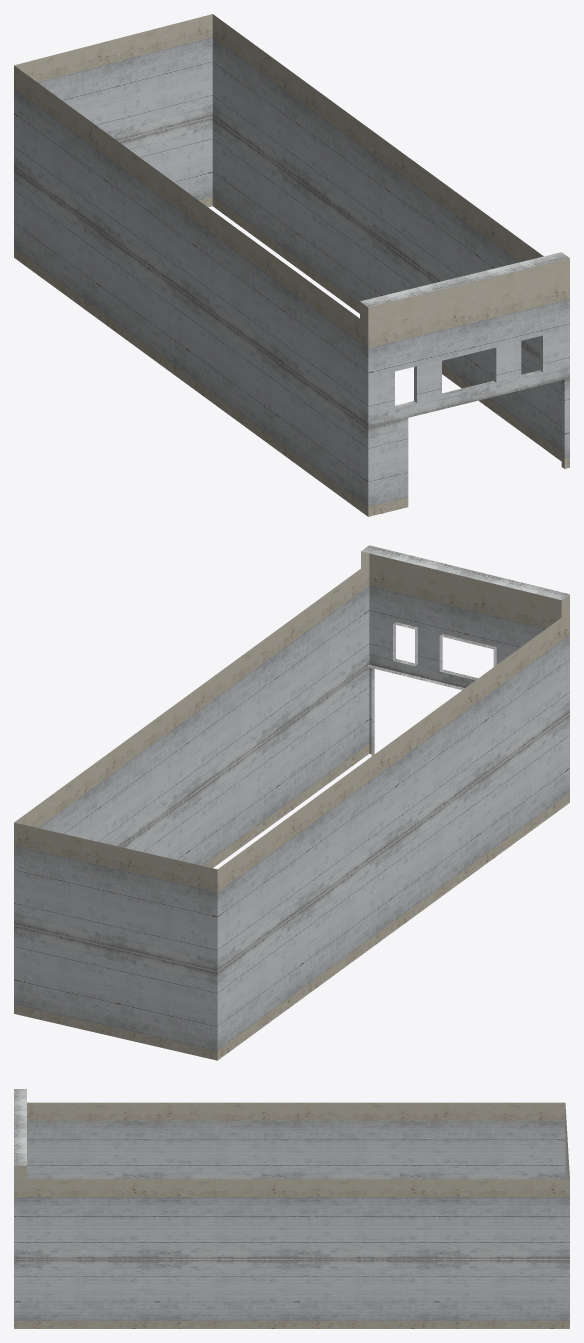
The model's file is rural_storesmall_4_rural_midcity_walls_flr_1_0.glb.
3 views of the same model, one above another, from view 1: azimuth 30°, elevation 25°; view 2: azimuth 150°, elevation 25°; view 3: azimuth 270°, elevation 25° (orthographic). The views are drawn at different scales.
Parts seen in each view (by area): view 1: Rural_StoreSmall_4_Rural_Midcity_Walls_FLR_1_0; view 2: Rural_StoreSmall_4_Rural_Midcity_Walls_FLR_1_0; view 3: Rural_StoreSmall_4_Rural_Midcity_Walls_FLR_1_0.
Boxes of the visible parts, <box> form: Rural_StoreSmall_4_Rural_Midcity_Walls_FLR_1_0: <box>14,14,569,516</box>; Rural_StoreSmall_4_Rural_Midcity_Walls_FLR_1_0: <box>14,545,569,1060</box>; Rural_StoreSmall_4_Rural_Midcity_Walls_FLR_1_0: <box>14,1089,569,1328</box>.
Bounding box in the file's own units: 5.93 × 5.88 × 18.18.
Materials: 1 (1 with a texture image).
